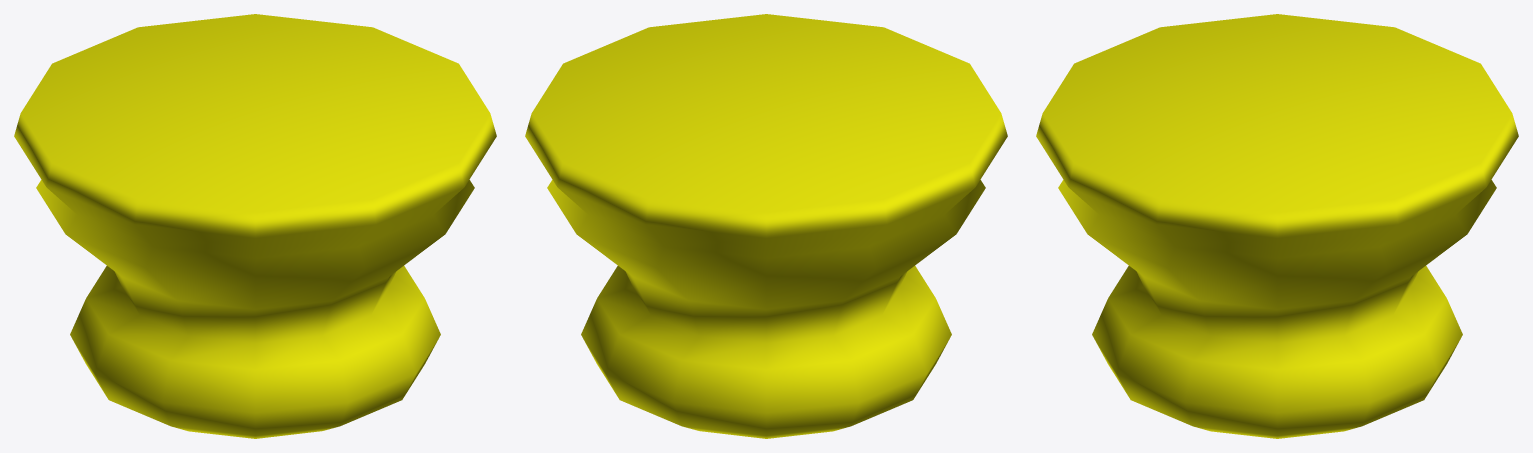
The model's file is B_Pillar_01_C.fbx.
3 renders of one model, left to right at view 1: azimuth 30°, elevation 25°; view 2: azimuth 150°, elevation 25°; view 3: azimuth 270°, elevation 25°, orthographic.
Visible parts, largest first — view 1: B_Pillar_01_C; view 2: B_Pillar_01_C; view 3: B_Pillar_01_C.
Boxes of the visible parts, x1,y1,x2,y2 form: B_Pillar_01_C: (14,14,496,438); B_Pillar_01_C: (525,14,1007,438); B_Pillar_01_C: (1036,14,1518,438).
Size of the model in its own units: 184 by 113 by 184.
